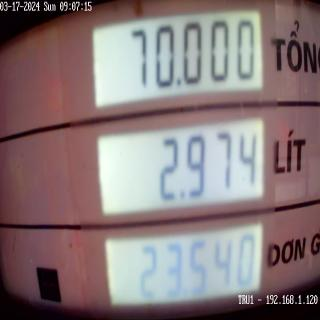screen: (83, 0, 270, 319)
